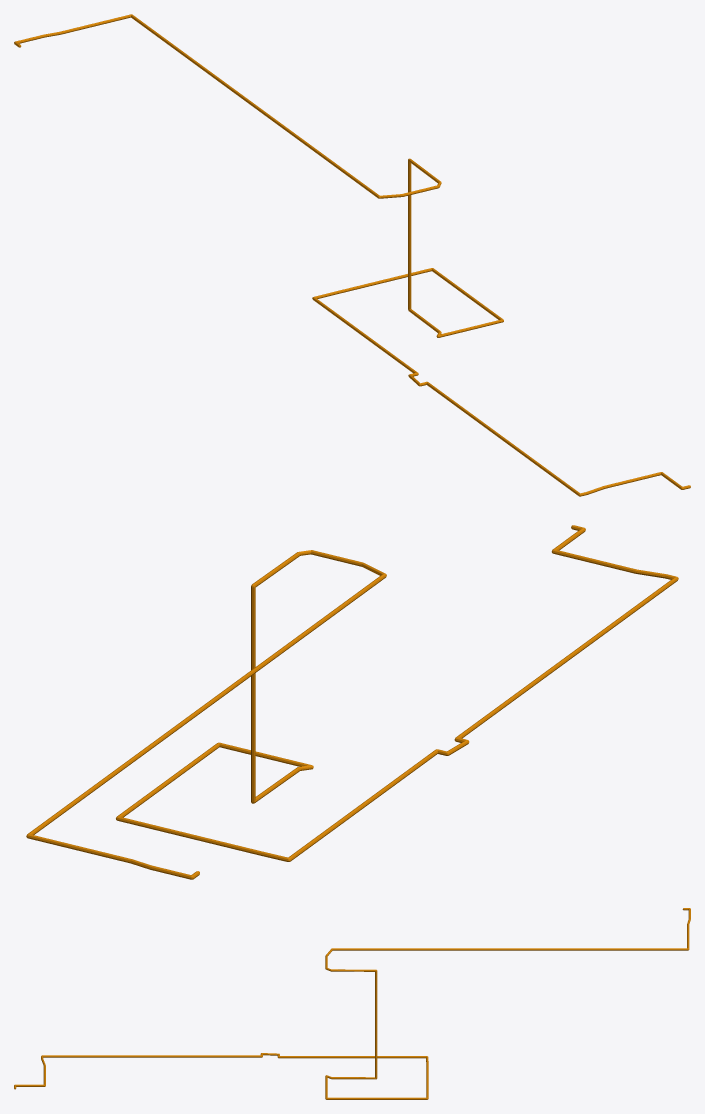
The picture shows the model from 3 angles, top to bottom: view 1: azimuth 30°, elevation 25°; view 2: azimuth 150°, elevation 25°; view 3: azimuth 270°, elevation 25°; orthographic projection. The views are drawn at different scales.
Size of the model in its own units: 1656 by 1020 by 5705.
